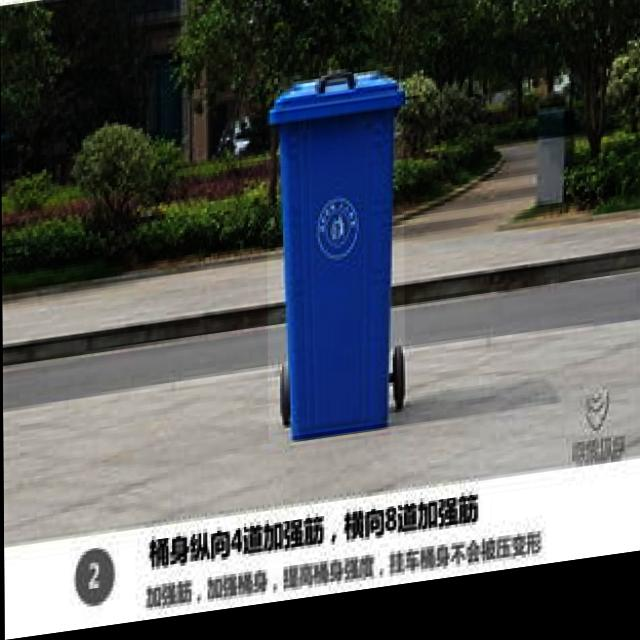garbage_bin: (266, 72, 405, 448)
